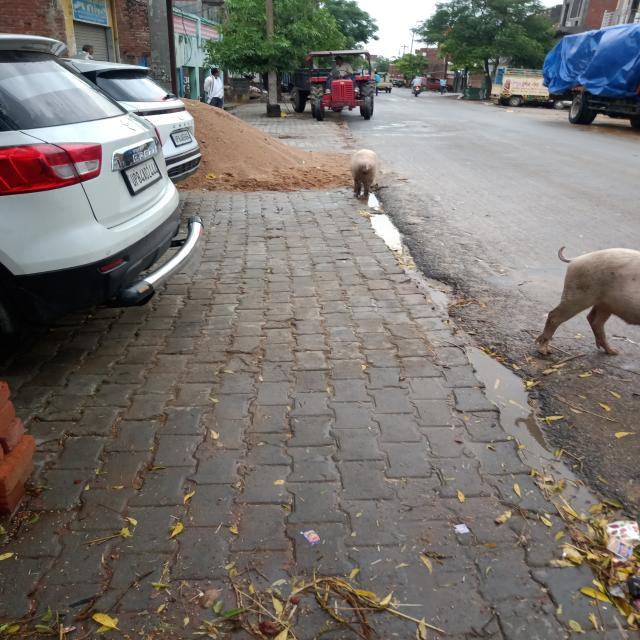Car: (0, 26, 230, 321), (85, 52, 219, 168), (422, 75, 456, 92)
Truck: (549, 29, 640, 128), (389, 59, 407, 85)
tempo: (486, 62, 561, 109), (375, 69, 393, 93)
tractor: (298, 46, 376, 124)
